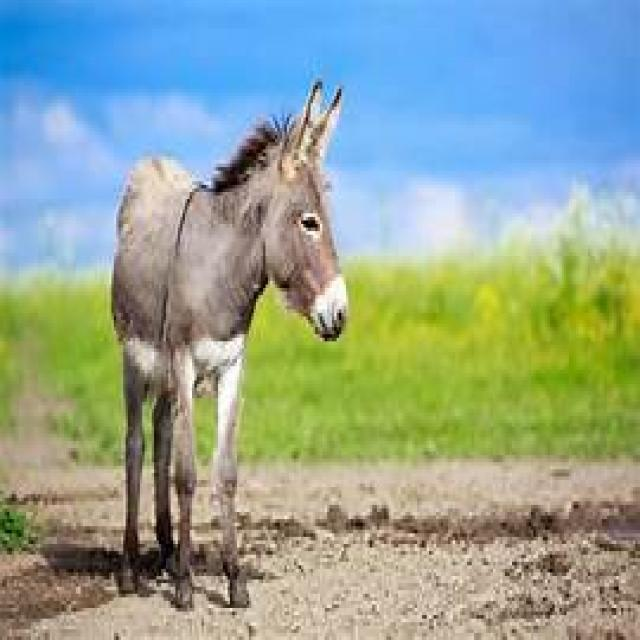Donkey: (85, 67, 378, 617)
